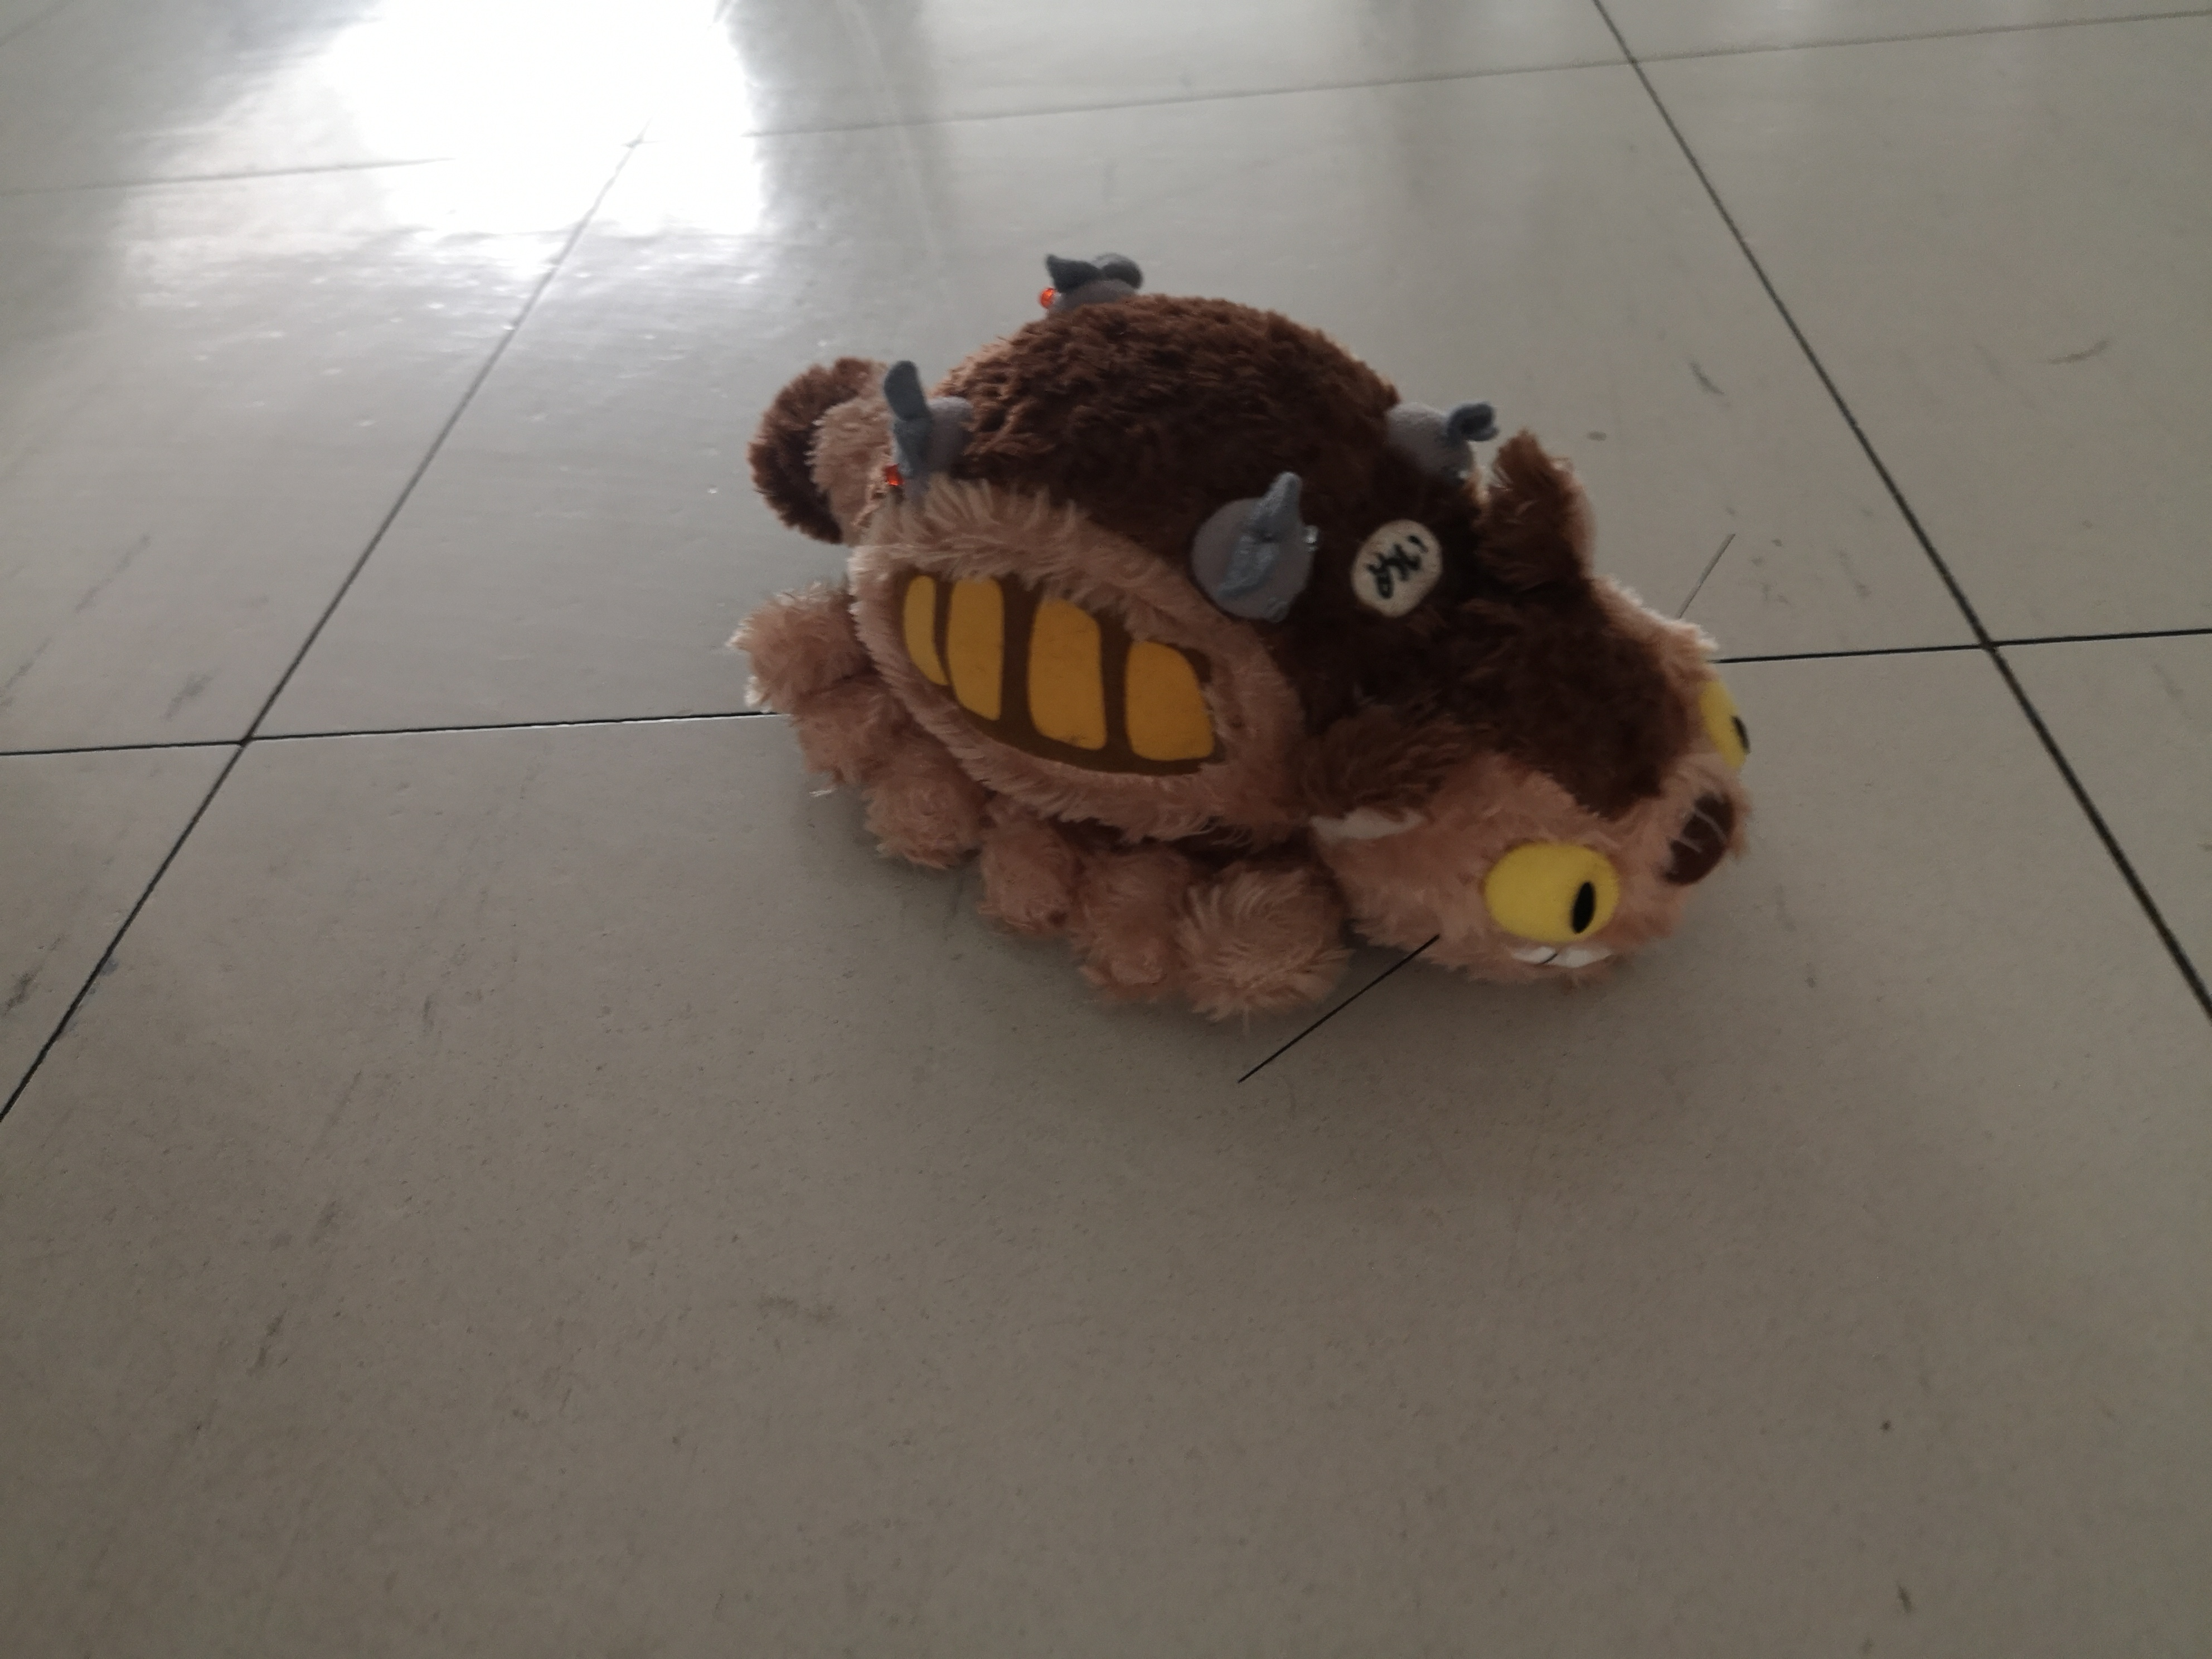nekobus: (719, 234, 1778, 1080)
